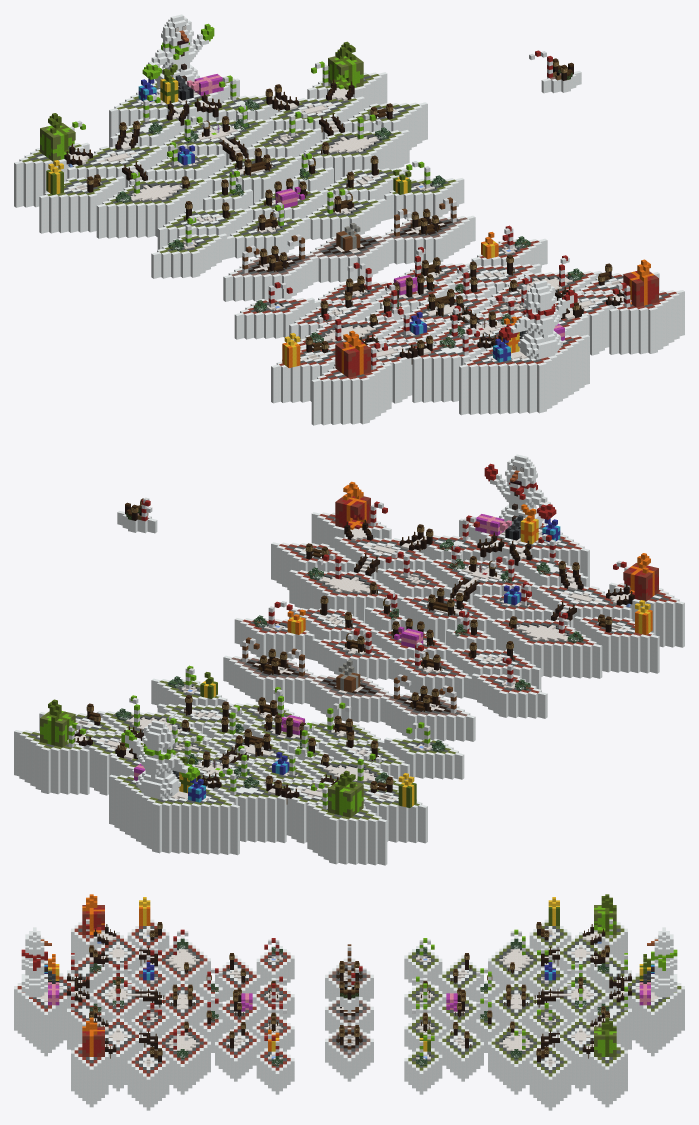
Rendered from minecraft.obj.
3 renders of one model, top to bottom at view 1: azimuth 30°, elevation 25°; view 2: azimuth 150°, elevation 25°; view 3: azimuth 270°, elevation 25°, orthographic. The views are drawn at different scales.
Size of the model in its own units: 112 by 42 by 177.
